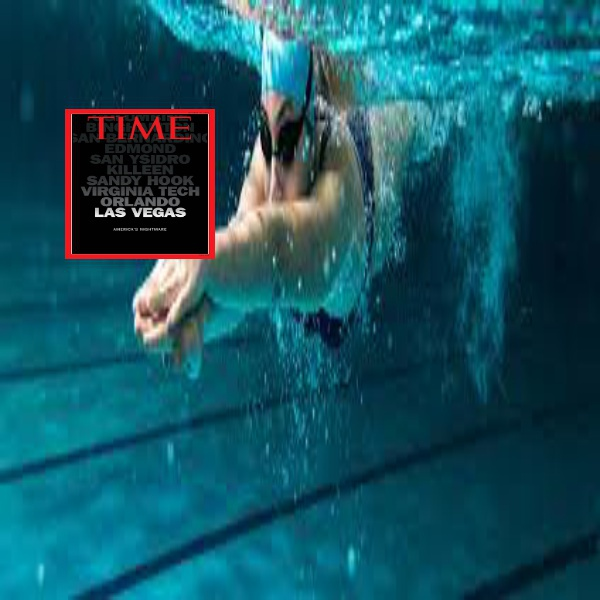time_cover: (62, 95, 216, 258)
